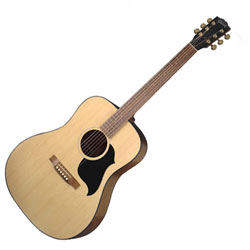guitar: (3, 14, 233, 239)
